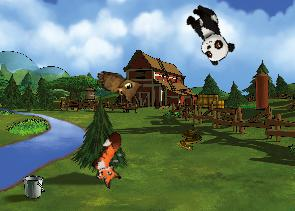fox: (83, 129, 140, 191)
owl: (93, 70, 143, 105)
panda: (179, 0, 238, 67)
